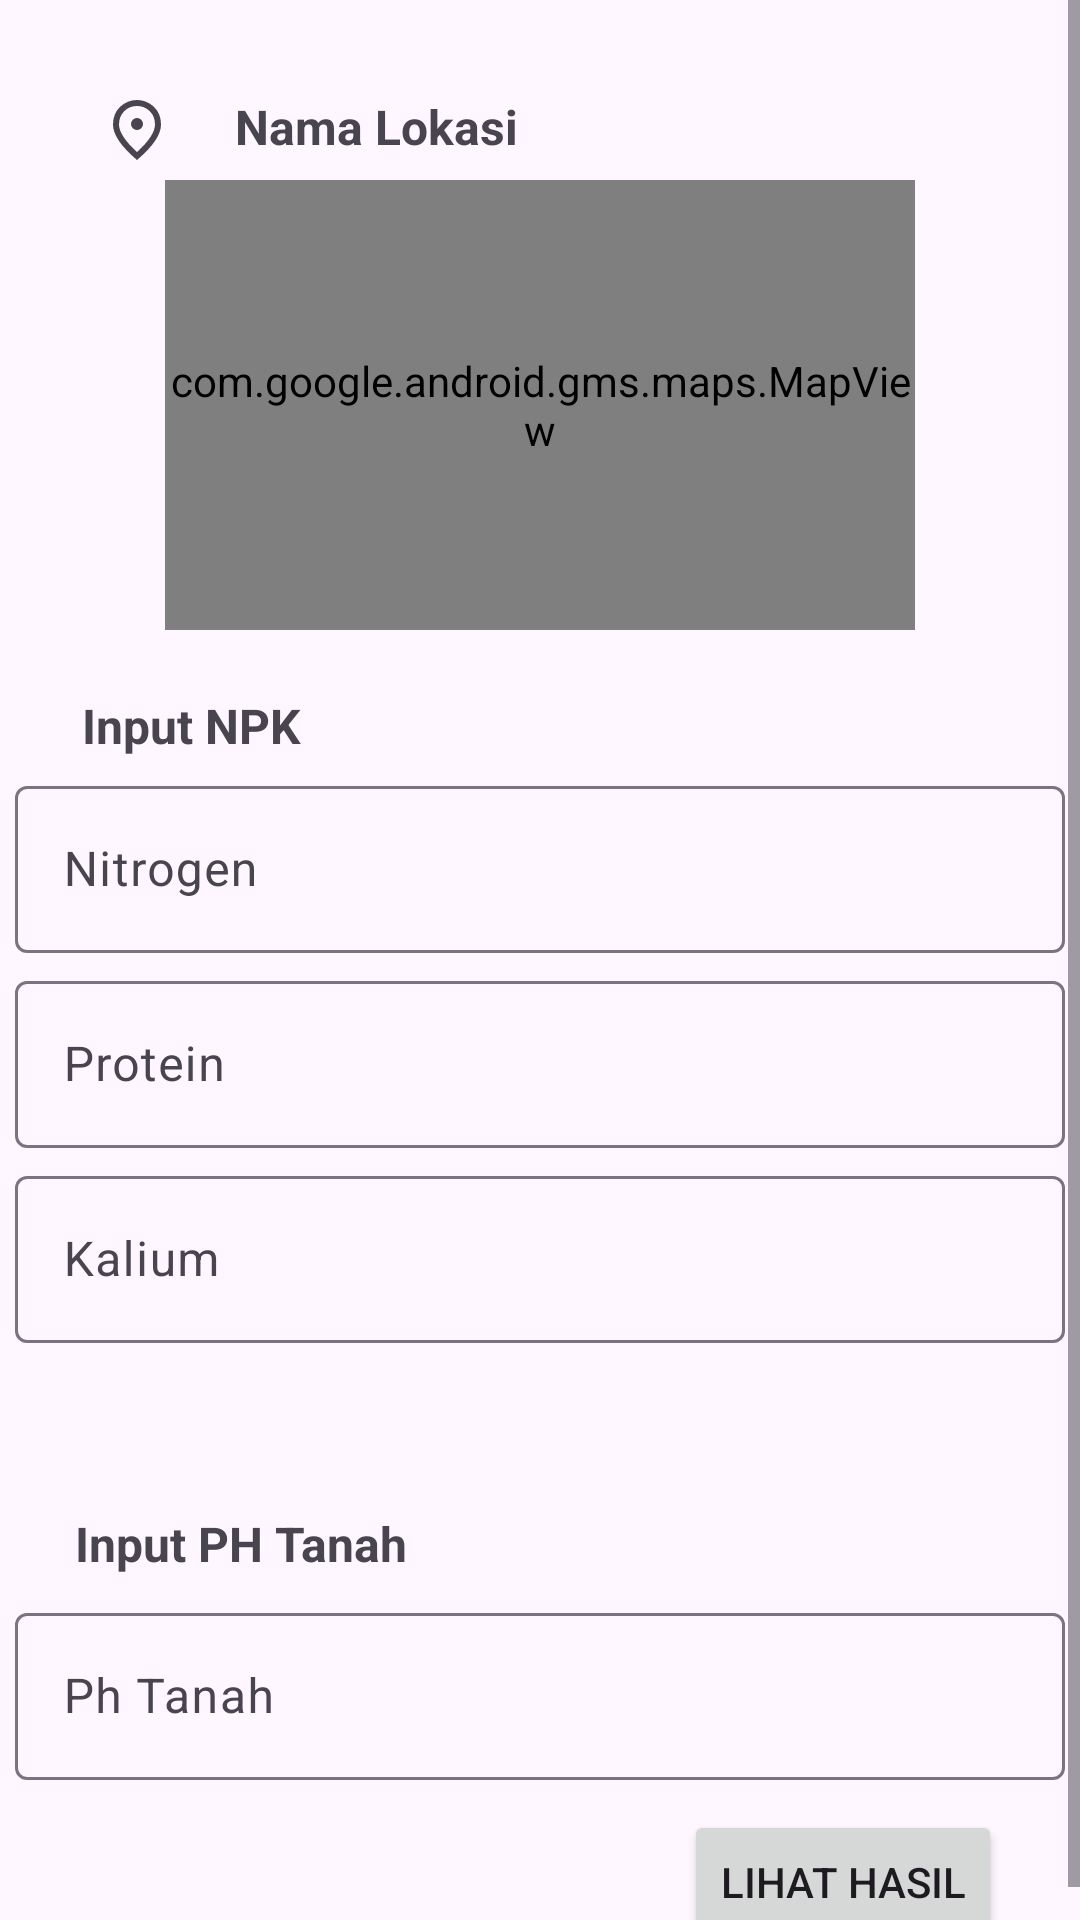

Screen size 1080*1920. Icon name, then its box in pixels as (x1, y1, x2, y2):
location: (113, 100, 161, 160)
